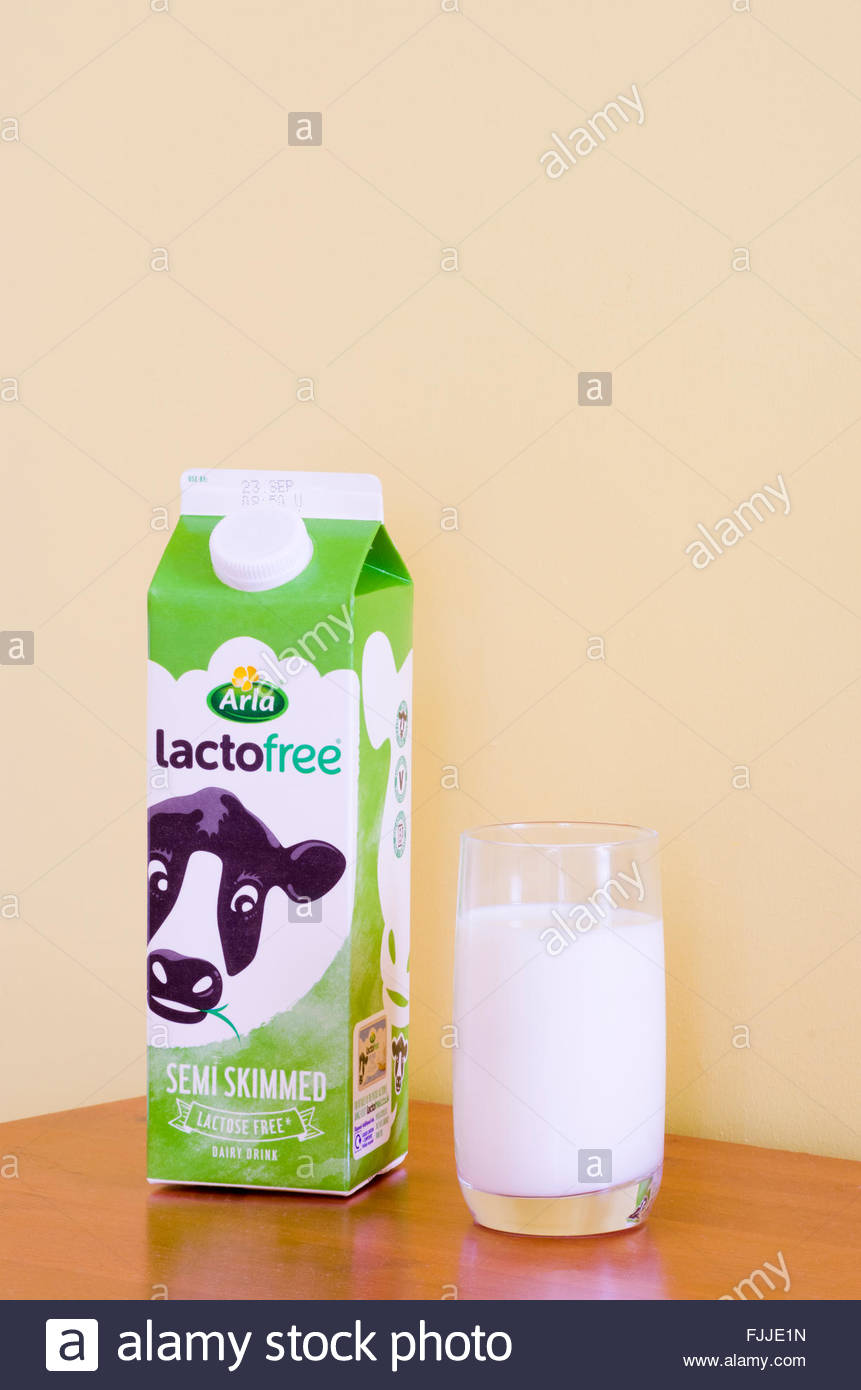carton: (85, 428, 437, 1244)
